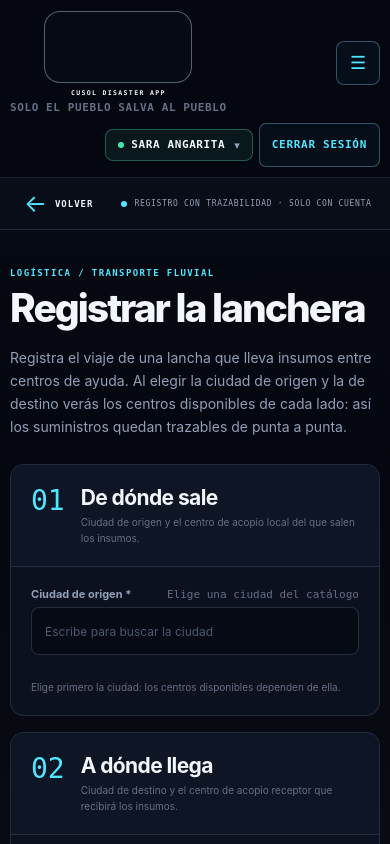
Test: TransportForm (CHG-161/CHG-171) › avisa cuando la ciudad de origen no tiene acopio local disponible
Type "arat" into the field with test id "origin-city-input" at x=195, y=631, box left=31, top=607, right=359, bottom=655
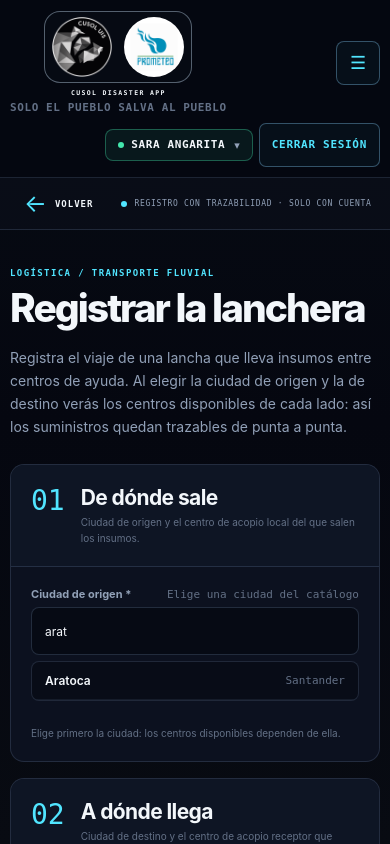
Click the menu item with test id "origin-city-option-aratoca-santander" at x=68, y=680, box left=32, top=662, right=358, bottom=700
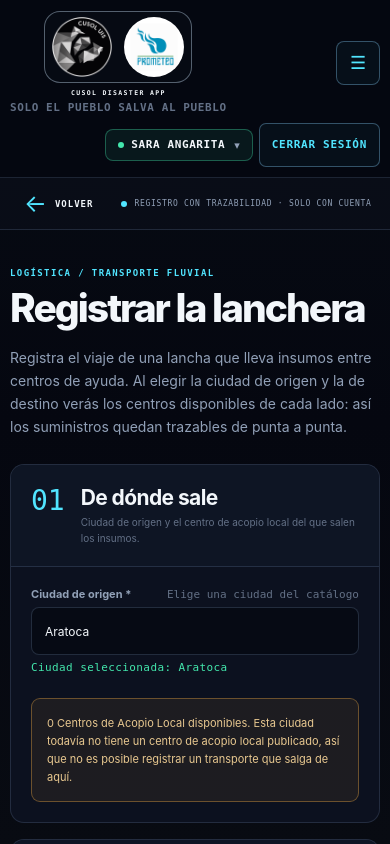
Expected: the text "0 Centros de Acopio Local disponibles" is shown, left=47, top=714, right=343, bottom=786
